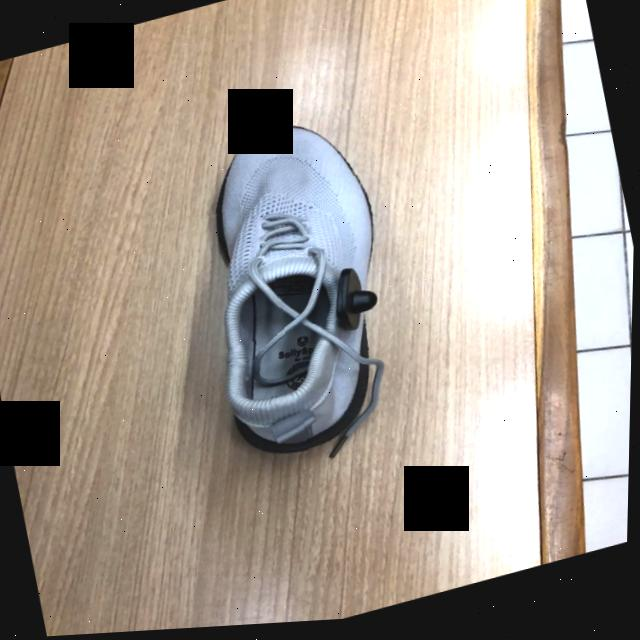shoe: (218, 130, 379, 458)
